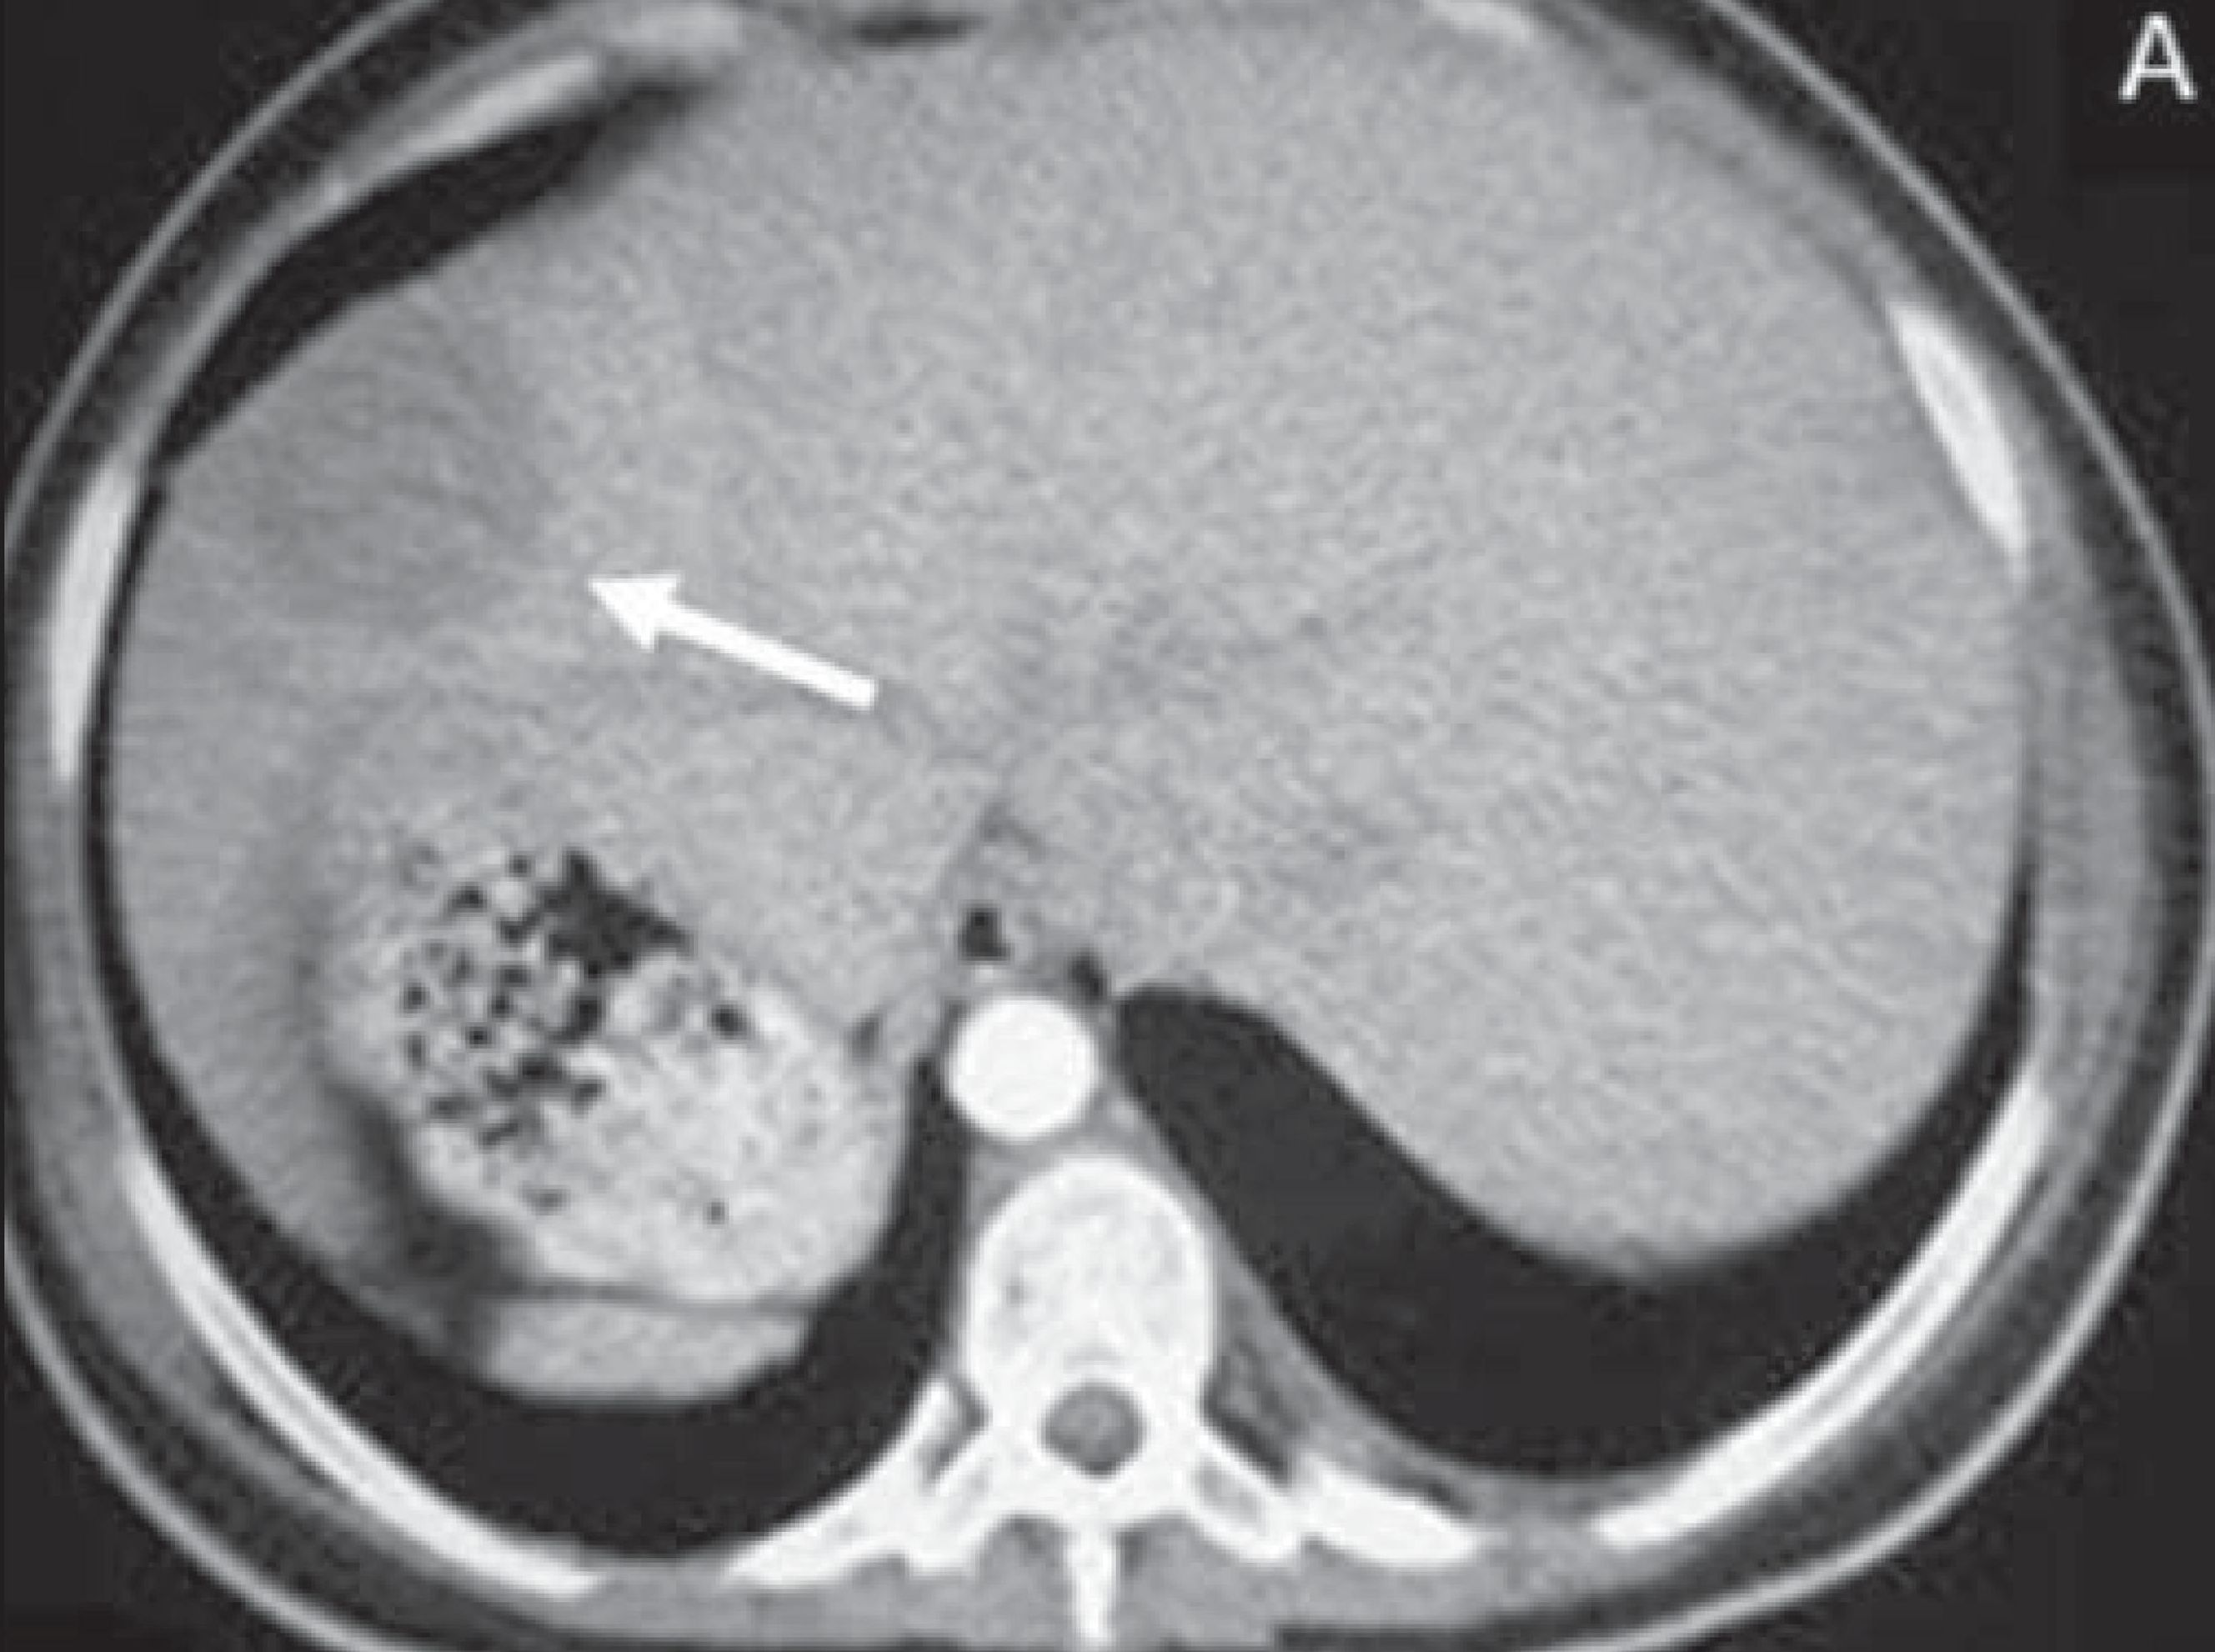anomaly: (222, 309, 594, 637)
